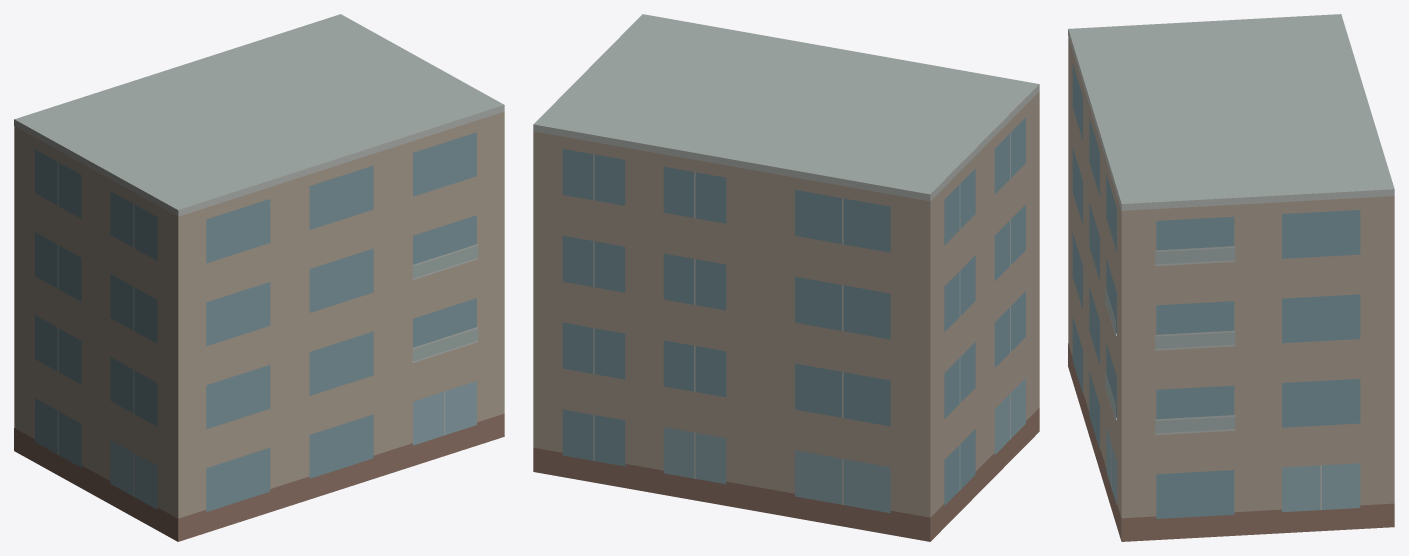
Rendered from residential-c4b729a2-b857-4803-8b15-5af7baee4271.glb.
3 views of the same model, side by side, from view 1: azimuth 30°, elevation 25°; view 2: azimuth 150°, elevation 25°; view 3: azimuth 270°, elevation 25° (orthographic). The views are drawn at different scales.
Parts seen in each view (by area): view 1: residential-c4b729a2-b857-4803-8b15-5af7baee4271.tmp; view 2: residential-c4b729a2-b857-4803-8b15-5af7baee4271.tmp; view 3: residential-c4b729a2-b857-4803-8b15-5af7baee4271.tmp.
Part boxes in pixels (box(x1,y1,x2,y2)): residential-c4b729a2-b857-4803-8b15-5af7baee4271.tmp: box(14, 14, 504, 541); residential-c4b729a2-b857-4803-8b15-5af7baee4271.tmp: box(533, 14, 1039, 541); residential-c4b729a2-b857-4803-8b15-5af7baee4271.tmp: box(1068, 14, 1394, 541).
Bounding box in the file's own units: 14.73 × 12.2 × 10.7.
